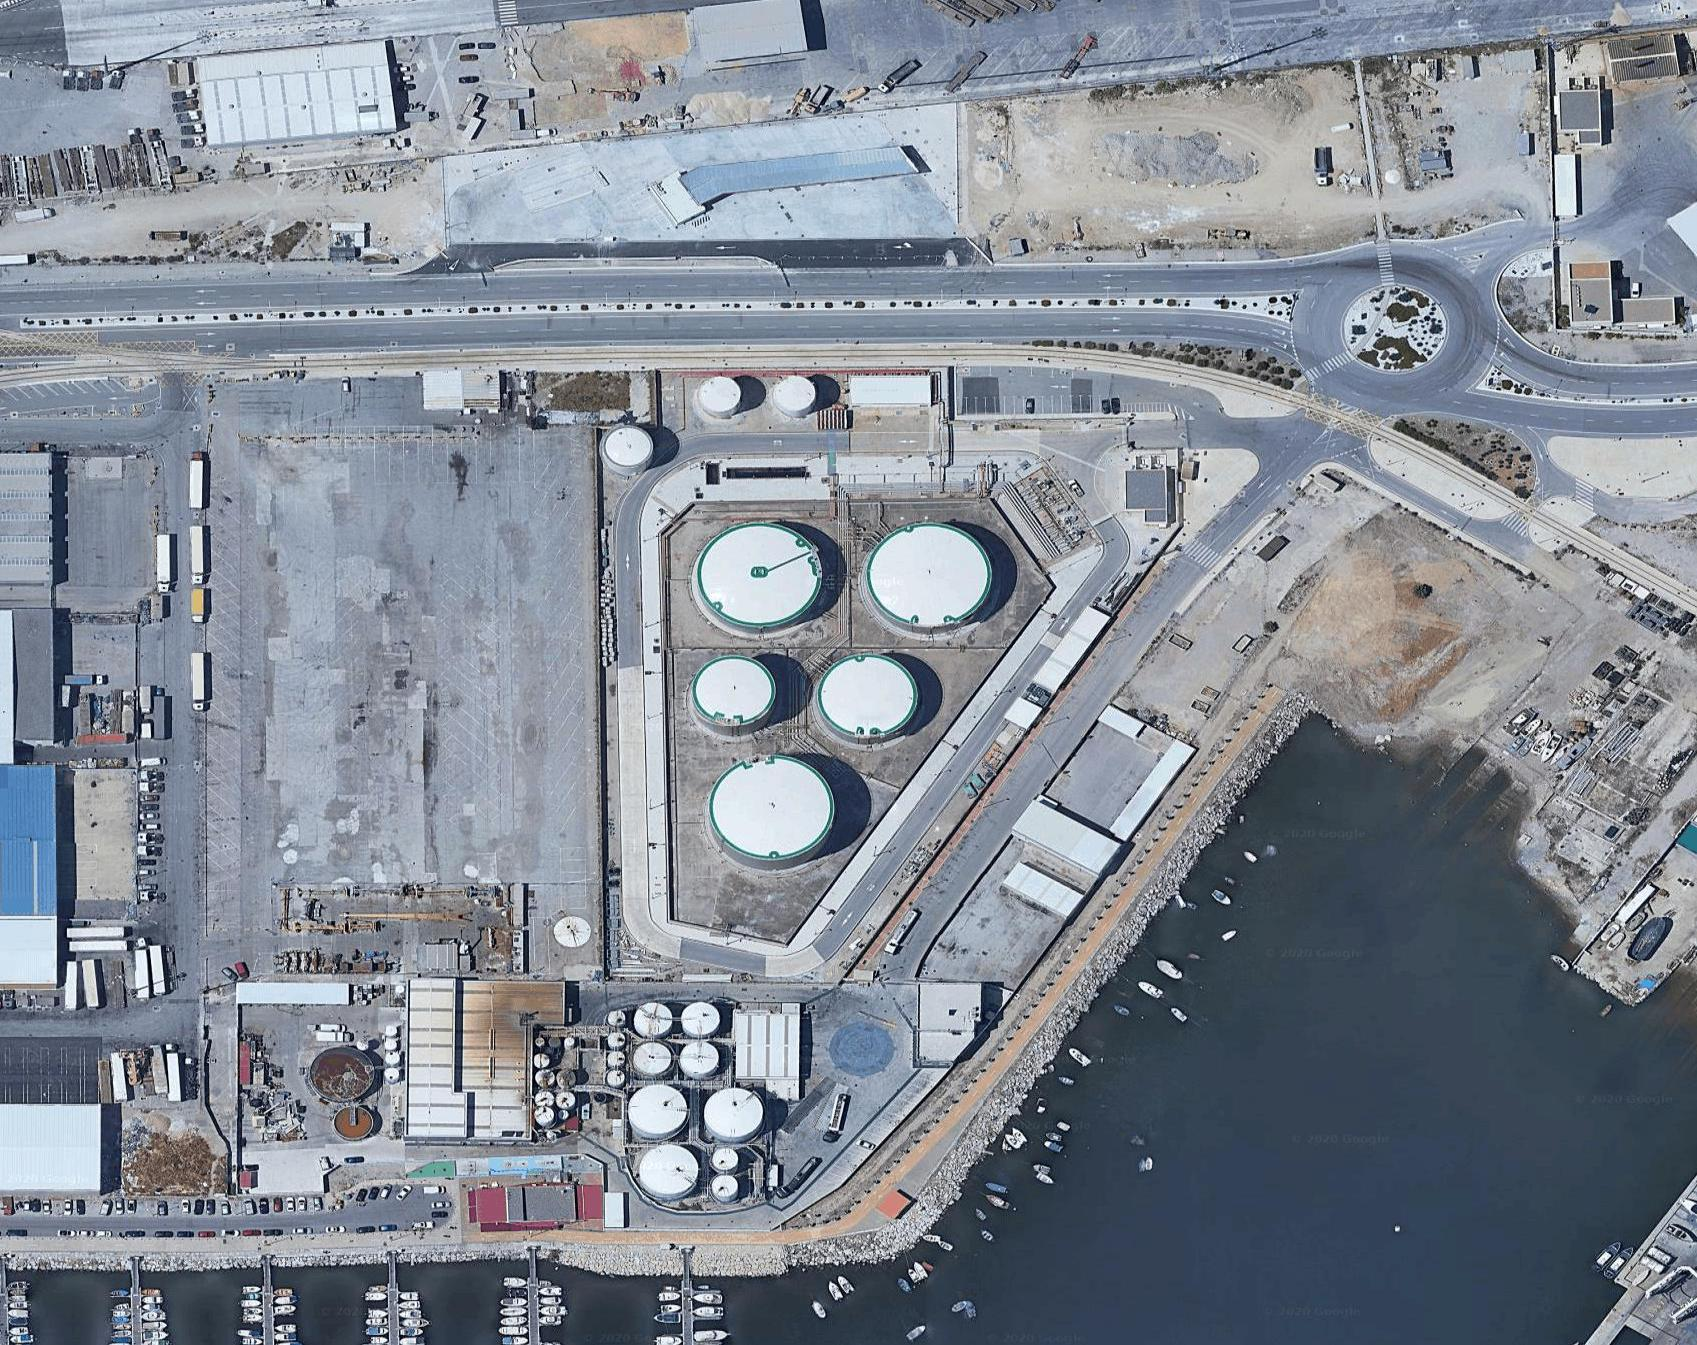harbor: (225, 1266, 314, 1345), (95, 1266, 185, 1345), (343, 1266, 433, 1345), (485, 1266, 574, 1345), (645, 1266, 734, 1345)
large-vehicle: (178, 445, 219, 515), (178, 511, 219, 582), (185, 644, 214, 717), (183, 582, 214, 627)
roundabout: (1333, 278, 1455, 375)
storage-tank: (860, 515, 1000, 634), (693, 520, 837, 634), (704, 752, 840, 867), (813, 650, 926, 744), (691, 657, 780, 730), (632, 1142, 702, 1204), (623, 1085, 691, 1140), (702, 1087, 764, 1137), (766, 369, 822, 419), (601, 423, 656, 473), (694, 371, 749, 420), (548, 910, 598, 955), (680, 1040, 719, 1078), (634, 1040, 672, 1076), (680, 1002, 720, 1036), (632, 1003, 669, 1039), (707, 1141, 745, 1175), (707, 1167, 745, 1202)
